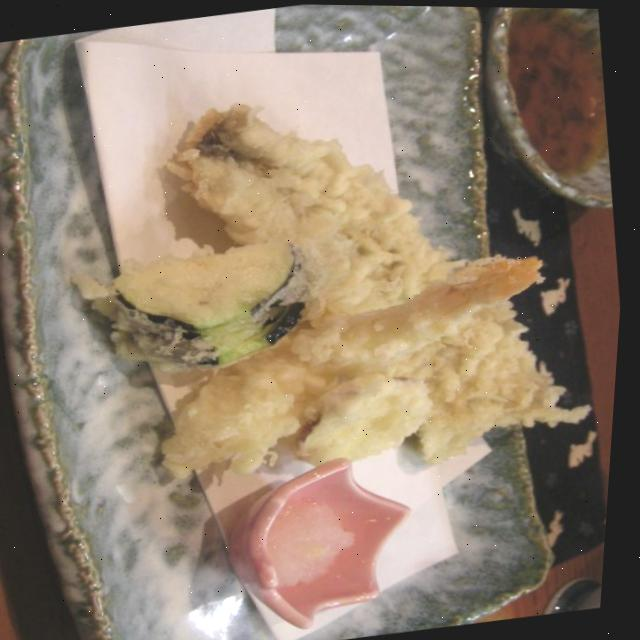蔬菜料理: (53, 34, 638, 529)
